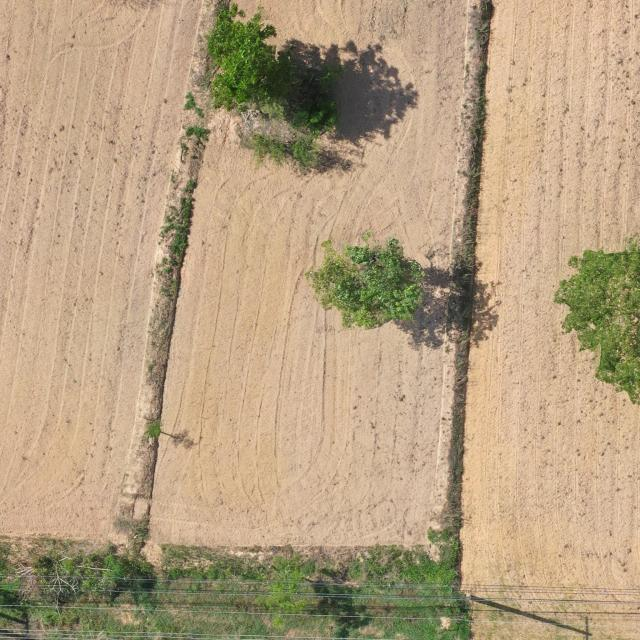Tree: (551, 245, 640, 406), (306, 235, 427, 331), (201, 5, 295, 114)
